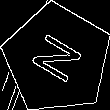N_SE: (25, 29, 89, 89)
